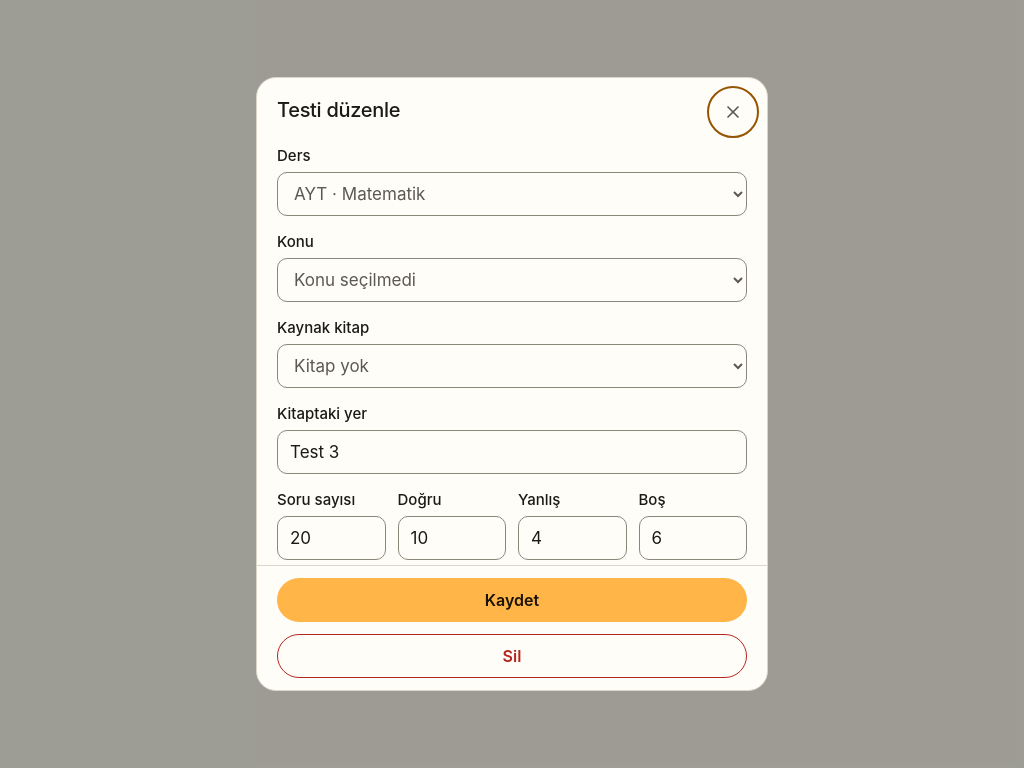
Test: TestResultSheet › düzenleme › silme başarısız olursa hata gösterir
Click the button "Sil". click: click(512, 656)
box: [277,634,747,678]
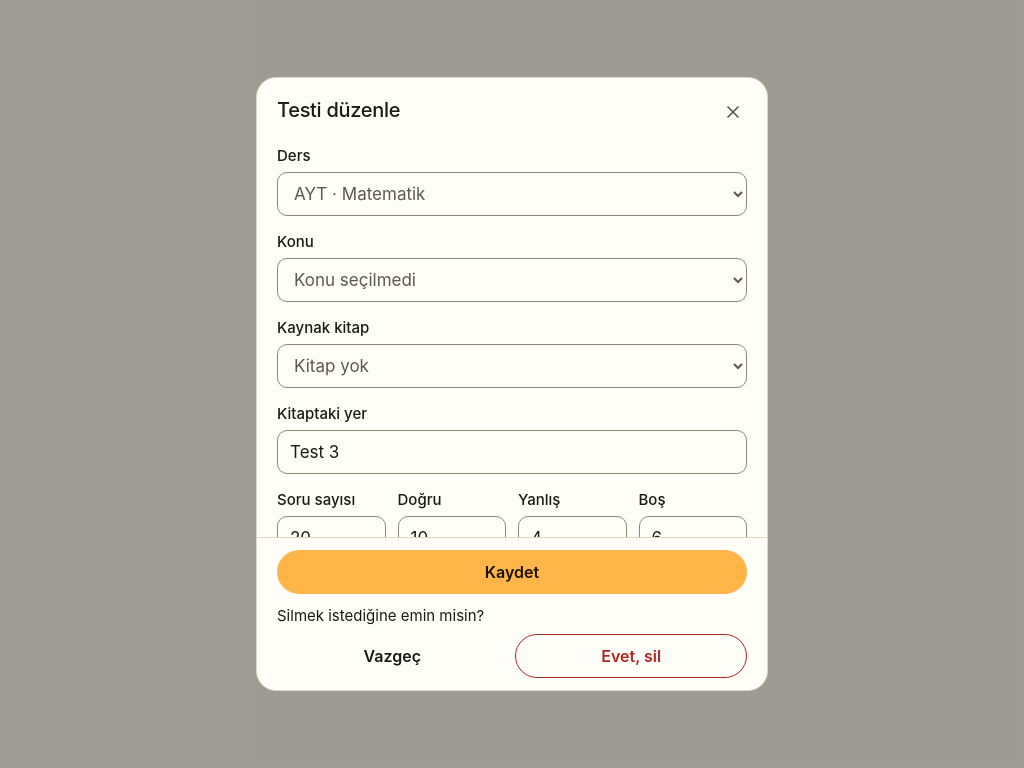
Click the button "Evet, sil". click: click(631, 656)
box: [515,634,747,678]
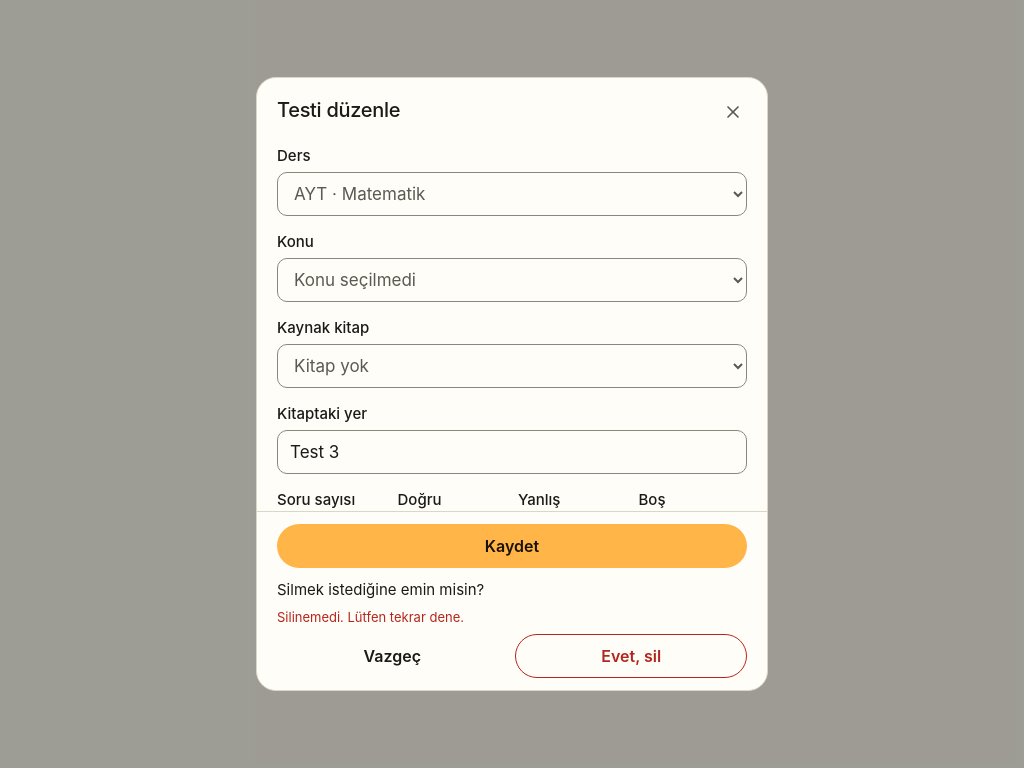
Expected: the message shows "Silinemedi", [277,609,464,625]
